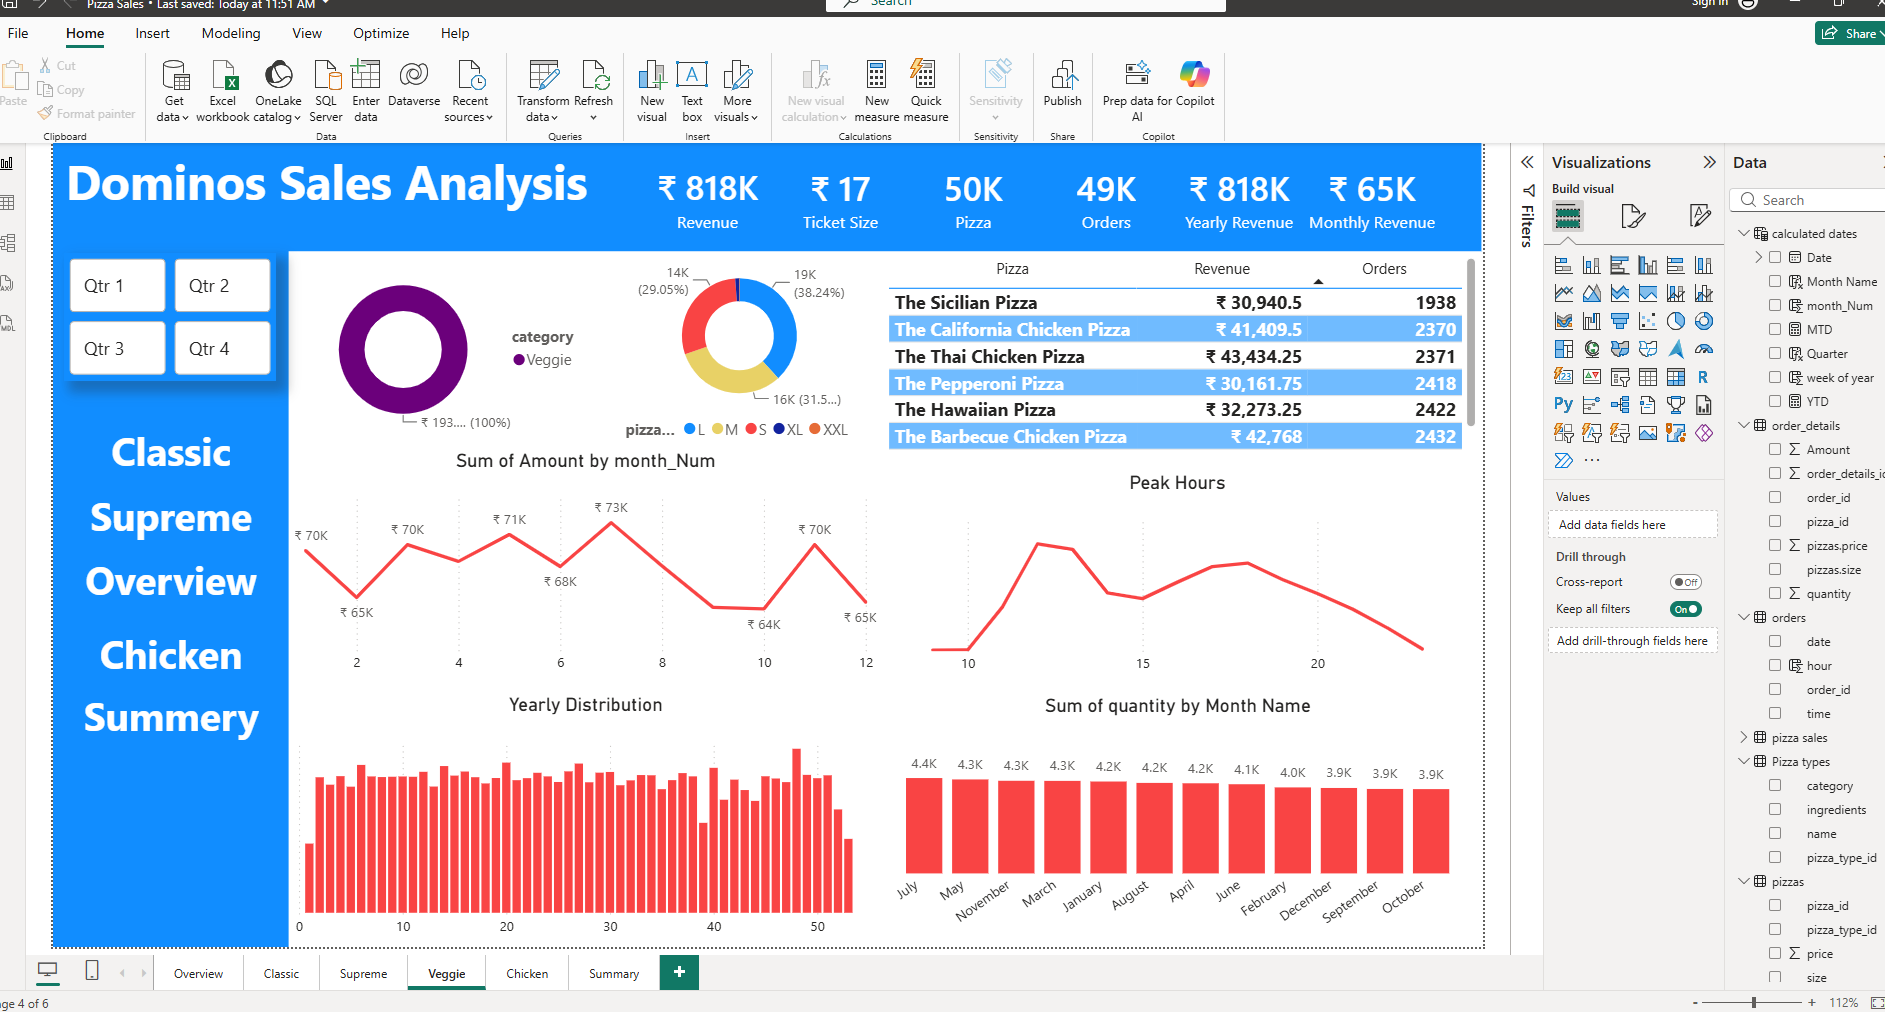

Layout of this report page (visuals, bound fields, positions):
{"tool":"powerbi","page":{"name":"Veggie","canvas":[1280,720],"ordinal":3},"visuals":[{"type":"shape","box":[0,0,211.4,720],"z":0},{"type":"shape","box":[204.6,0,1075.4,96.9],"z":1000},{"type":"textbox","box":[0,0,490,96.2],"z":2000},{"type":"cardVisual","fields":{"Data":["Sum(order_details.Amount)","Avg(order_details.Amount)","Sum(order_details.quantity)","CountNonNull(order_details.order_id)","calculated dates.YTD","calculated dates.MTD"]},"box":[490,0,790,98.6],"z":3000},{"type":"donutChart","title":"Category Wise Revenue","fields":{"Category":["Pizza types.category"],"Y":["Sum(order_details.Amount)"]},"box":[211.3,95.8,278.5,178.2],"z":4000},{"type":"advancedSlicerVisual","fields":{"Values":["calculated dates.Quarter"]},"box":[10,98.5,190,114.6],"z":5000},{"type":"columnChart","title":"Yearly Distribution","fields":{"Y":["Sum(order_details.Amount)"],"Category":["calculated dates.week of year"]},"box":[211.4,492.9,531.4,227.1],"z":6000},{"type":"lineChart","fields":{"Y":["Sum(order_details.Amount)"],"Category":["calculated dates.month_Num"]},"box":[211.4,274.3,531.4,210],"z":7000},{"type":"donutChart","fields":{"Category":["order_details.pizzas.size"],"Y":["Sum(order_details.quantity)"]},"box":[496.1,99.4,237.1,175.7],"z":8000},{"type":"tableEx","fields":{"Values":["Pizza types.name","Sum(order_details.Amount)","Sum(order_details.quantity)"]},"box":[742.4,97.6,537.3,184.5],"z":9000},{"type":"lineChart","title":"Peak Hours","fields":{"Category":["orders.hour"],"Y":["CountNonNull(order_details.order_details_id)"]},"box":[741.5,293.7,531,190.7],"z":10000},{"type":"columnChart","fields":{"Category":["calculated dates.Month Name"],"Y":["Sum(order_details.quantity)"]},"box":[742,493,530,227],"z":11000},{"type":"actionButton","box":[21.4,247.1,168.6,55.7],"z":12000},{"type":"actionButton","box":[21.4,305.7,168.6,55.7],"z":13000},{"type":"actionButton","box":[21.4,362.9,168.6,55.7],"z":14000},{"type":"actionButton","box":[21.1,428.9,168.6,55.7],"z":15000},{"type":"actionButton","box":[21.4,484.3,168.6,55.7],"z":16000}]}

Visuals, with their boxes on the page's 1280x720 design canvas (x1, y1, x2, y2). These are canvas units, not pixel positions in the 1885x1012 screenshot, which may show the page scaled, cropped or inside an application window:
shape: 0,0,211,720
shape: 205,0,1280,97
textbox: 0,0,490,96
cardVisual - Sum(order_details.Amount) x Avg(order_details.Amount): 490,0,1280,99
"Category Wise Revenue" donutChart: 211,96,490,274
advancedSlicerVisual - calculated dates.Quarter: 10,98,200,213
"Yearly Distribution" columnChart: 211,493,743,720
lineChart - Sum(order_details.Amount) x calculated dates.month_Num: 211,274,743,484
donutChart - order_details.pizzas.size x Sum(order_details.quantity): 496,99,733,275
tableEx - Pizza types.name x Sum(order_details.Amount): 742,98,1280,282
"Peak Hours" lineChart: 742,294,1272,484
columnChart - calculated dates.Month Name x Sum(order_details.quantity): 742,493,1272,720
actionButton: 21,247,190,303
actionButton: 21,306,190,361
actionButton: 21,363,190,419
actionButton: 21,429,190,485
actionButton: 21,484,190,540
